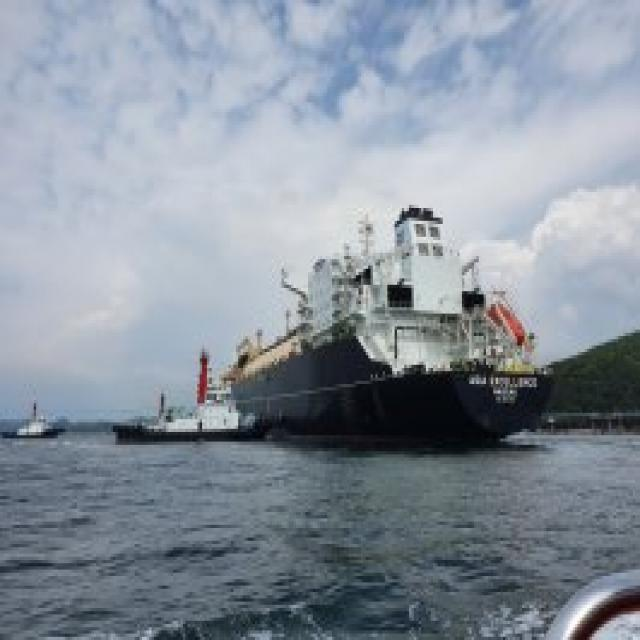Ship: (213, 200, 565, 472)
